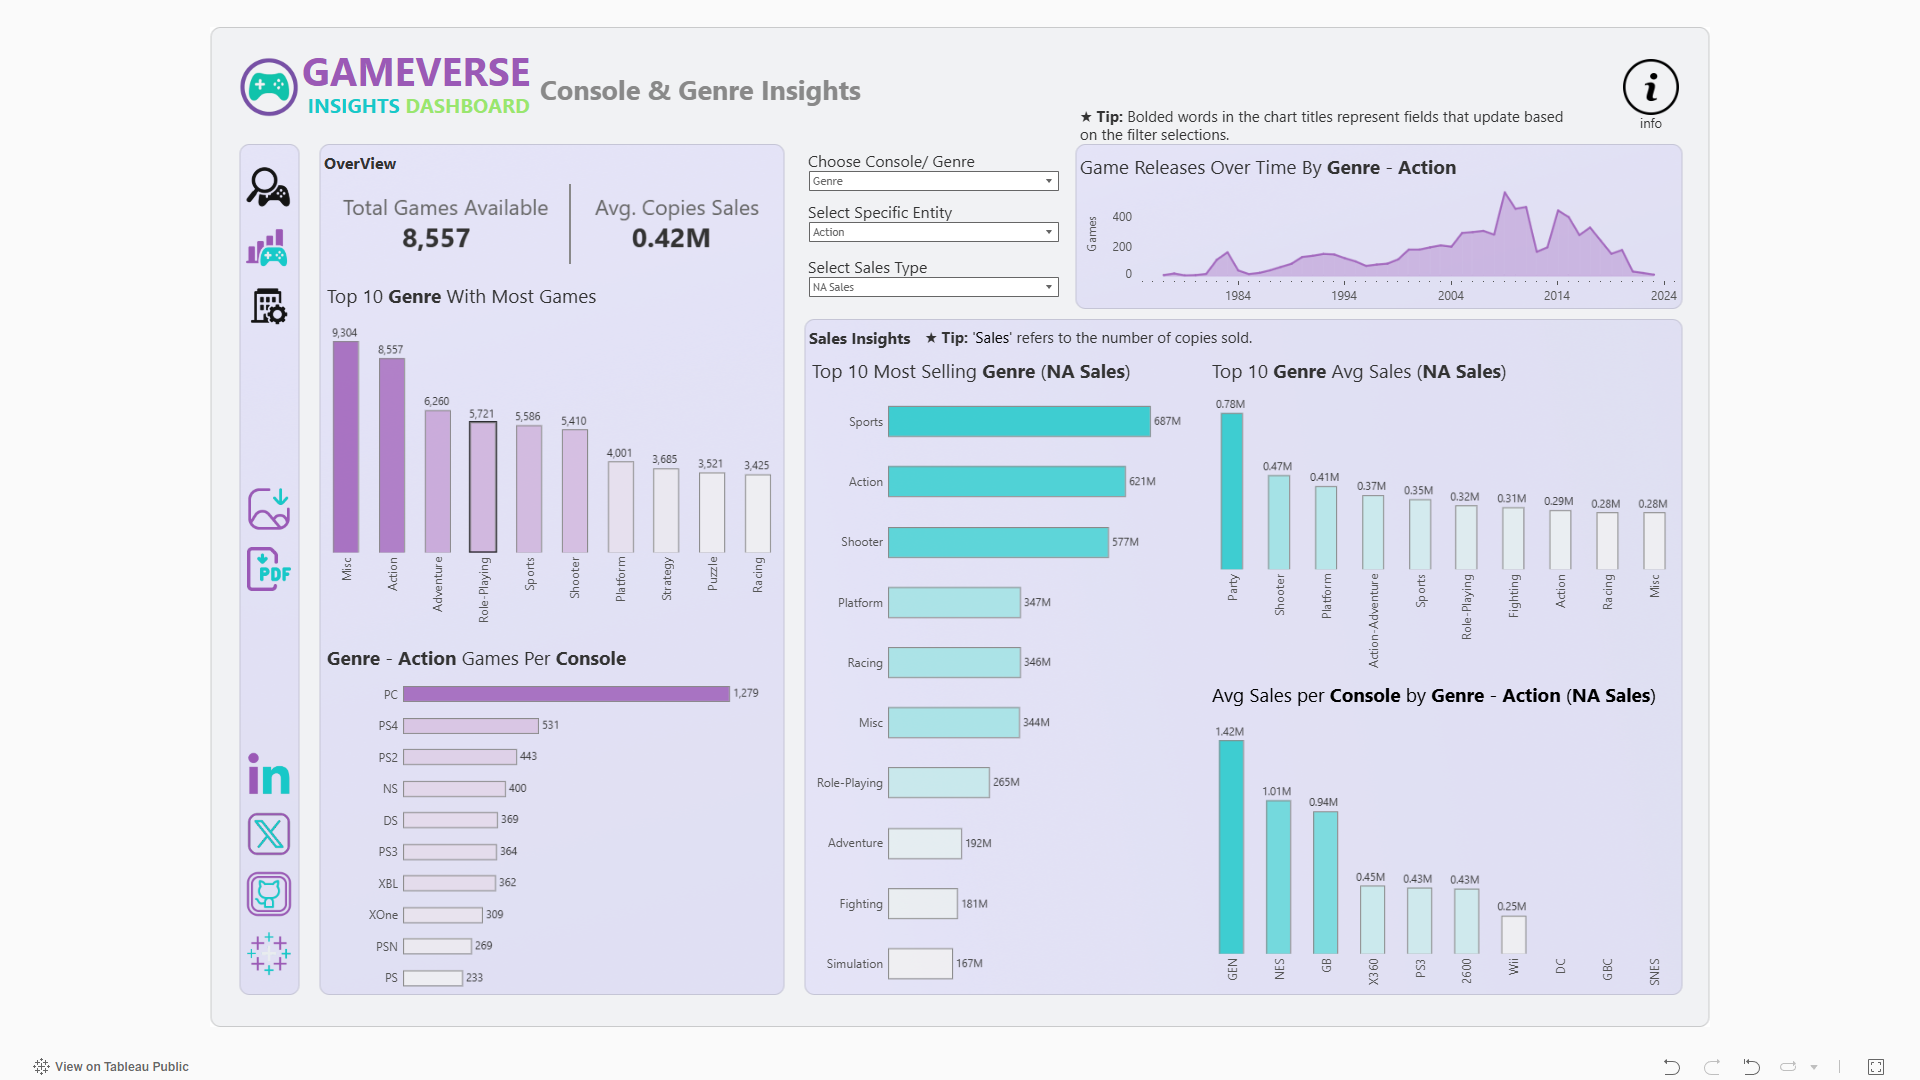

What the dashboard file says about the page in this screenshot:
{"tool":"tableau","page":{"name":"Dashboard 2","canvas":[1400,800],"ordinal":1},"visuals":[{"type":"image","param":"Image/Frame 2.png","box":[0,0,1400,800]},{"type":"image","param":"Image/Logo.png","box":[8,8,260,90]},{"type":"blank","box":[268,8,1124,90]},{"type":"dashboard-object","box":[1310,17,54,54]},{"type":"text","box":[275,33,566,43]},{"type":"blank","box":[91,104,1298,186]},{"type":"blank","box":[28,108,60,10]},{"type":"text","box":[108,108,465,21]},{"type":"parameter","param":"[Parameters].[Parameter 1]","box":[593,108,260,53]},{"type":"worksheet","title":"Con/Gen through time","mark":"Line","rows":["title","title"],"cols":["release_date"],"box":[863,108,509,155]},{"type":"blank","box":[109,109,466,118]},{"type":"dashboard-object","box":[28,118,60,60]},{"type":"worksheet","title":"KPI - TotalGames","mark":"Automatic","box":[108,129,253,100]},{"type":"blank","box":[361,129,2,100]},{"type":"worksheet","title":"KPI - AvgSales","mark":"Automatic","box":[363,129,210,100]},{"type":"filter","title":"KPI - TotalGames","param":"[federated.18w1nm404yaaw618ulkqm1dnj3dy].[none:Calculation_1497446943704072193:n","box":[593,161,260,49]},{"type":"dashboard-object","box":[28,178,60,60]},{"type":"parameter","param":"[Parameters].[Parameter 2]","box":[593,210,260,53]},{"type":"worksheet","title":"Top 10 Console/Genre","mark":"Automatic","rows":["Video Games Data.csv_87575D1885CE4F9F9E11FA6B9C9073A3"],"cols":["Calculation_1497446943697616896"],"box":[108,229,465,233]},{"type":"dashboard-object","box":[28,238,60,60]},{"type":"text","box":[593,273,779,21]},{"type":"text","box":[91,290,1298,298]},{"type":"worksheet","title":"Top 10 Con/Gen(sales)","mark":"Automatic","rows":["Calculation_1497446943697616896"],"cols":["Calculation_1052435005628178432"],"box":[593,294,360,478]},{"type":"worksheet","title":"TOP 10 Con/Gen AvgSales","mark":"Automatic","rows":["Calculation_1052435005628178432"],"cols":["Calculation_1497446943697616896"],"box":[953,294,414,239]},{"type":"blank","box":[28,298,60,123]},{"type":"dashboard-object","box":[28,421,60,55]},{"type":"worksheet","title":"Con/Gen Per Gen/Con","mark":"Bar","rows":["Console/Genre (copy)_1497446943706566658"],"cols":["Video Games Data.csv_87575D1885CE4F9F9E11FA6B9C9073A3"],"box":[108,462,465,310]},{"type":"dashboard-object","box":[28,476,60,55]},{"type":"blank","box":[28,531,60,50]},{"type":"worksheet","title":"Avg Sales Per Gen by Con","mark":"Automatic","rows":["Calculation_1052435005628178432"],"cols":["Console/Genre (copy)_1497446943706566658"],"box":[953,533,414,239]},{"type":"image","param":"Image/contact-linkedin.png","box":[28,581,60,60]},{"type":"blank","box":[91,588,1298,186]},{"type":"image","param":"Image/contact-github.png","box":[28,641,60,61]},{"type":"image","param":"Image/contact-public.png","box":[28,702,60,60]},{"type":"blank","box":[28,762,60,10]}]}

Visuals, with their boxes on the page's 1400x800 design canvas (x1, y1, x2, y2). These are canvas units, not pixel positions in the 1920x1080 screenshot, which may show the page scaled, cropped or inside an application window:
image: left=0, top=0, right=1400, bottom=800
image: left=8, top=8, right=268, bottom=98
blank: left=268, top=8, right=1392, bottom=98
dashboard-object: left=1310, top=17, right=1364, bottom=71
text: left=275, top=33, right=841, bottom=76
blank: left=91, top=104, right=1389, bottom=290
blank: left=28, top=108, right=88, bottom=118
text: left=108, top=108, right=573, bottom=129
parameter: left=593, top=108, right=853, bottom=161
"Con/Gen through time" worksheet (Line marks): left=863, top=108, right=1372, bottom=263
blank: left=109, top=109, right=575, bottom=227
dashboard-object: left=28, top=118, right=88, bottom=178
"KPI - TotalGames" worksheet: left=108, top=129, right=361, bottom=229
blank: left=361, top=129, right=363, bottom=229
"KPI - AvgSales" worksheet: left=363, top=129, right=573, bottom=229
"KPI - TotalGames" filter: left=593, top=161, right=853, bottom=210
dashboard-object: left=28, top=178, right=88, bottom=238
parameter: left=593, top=210, right=853, bottom=263
"Top 10 Console/Genre" worksheet: left=108, top=229, right=573, bottom=462
dashboard-object: left=28, top=238, right=88, bottom=298
text: left=593, top=273, right=1372, bottom=294
text: left=91, top=290, right=1389, bottom=588
"Top 10 Con/Gen(sales)" worksheet: left=593, top=294, right=953, bottom=772
"TOP 10 Con/Gen AvgSales" worksheet: left=953, top=294, right=1367, bottom=533
blank: left=28, top=298, right=88, bottom=421
dashboard-object: left=28, top=421, right=88, bottom=476
"Con/Gen Per Gen/Con" worksheet (Bar marks): left=108, top=462, right=573, bottom=772
dashboard-object: left=28, top=476, right=88, bottom=531
blank: left=28, top=531, right=88, bottom=581
"Avg Sales Per Gen by Con" worksheet: left=953, top=533, right=1367, bottom=772
image: left=28, top=581, right=88, bottom=641
blank: left=91, top=588, right=1389, bottom=774
image: left=28, top=641, right=88, bottom=702
image: left=28, top=702, right=88, bottom=762
blank: left=28, top=762, right=88, bottom=772
